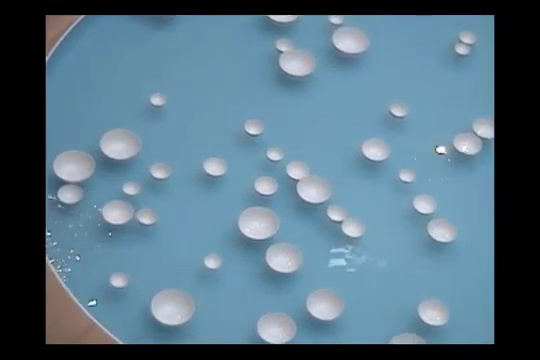bowl: (151, 289, 196, 326), (237, 206, 281, 240), (52, 150, 96, 183), (99, 128, 142, 160), (257, 312, 297, 343), (265, 242, 303, 273), (306, 289, 344, 320), (331, 27, 369, 54), (278, 50, 316, 77), (296, 176, 332, 204), (418, 299, 449, 327), (102, 200, 134, 225), (426, 218, 457, 243), (452, 132, 483, 155), (361, 138, 391, 161), (341, 217, 367, 237), (412, 194, 437, 214), (203, 157, 228, 177), (57, 185, 83, 204), (386, 332, 426, 344), (286, 160, 311, 179), (471, 119, 494, 138), (254, 177, 278, 195), (265, 14, 301, 26), (326, 204, 348, 222), (149, 162, 171, 179), (136, 209, 158, 225), (109, 272, 129, 288), (204, 253, 222, 269), (389, 103, 409, 117), (244, 120, 264, 134), (398, 168, 417, 182), (122, 181, 140, 195), (459, 31, 476, 45), (275, 38, 293, 51), (266, 147, 284, 160), (150, 93, 167, 106), (454, 44, 471, 55), (328, 14, 345, 24)
